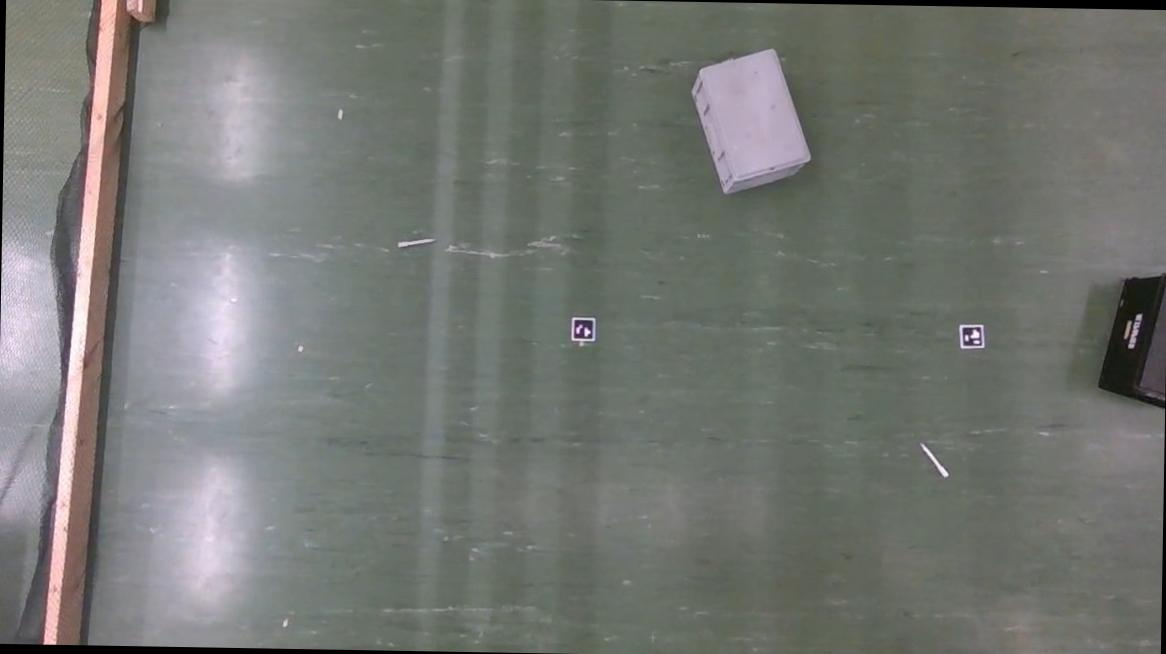probes: (920, 443, 946, 478), (396, 237, 433, 249)
rako: (690, 49, 812, 198), (1098, 273, 1166, 413)
